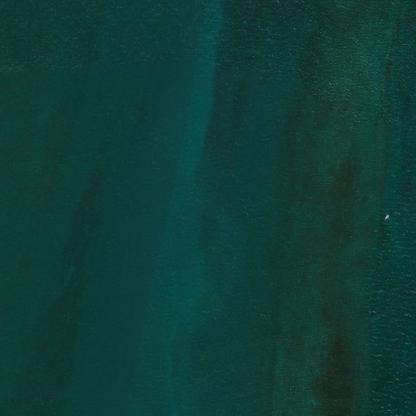ship: (383, 214, 388, 219)
